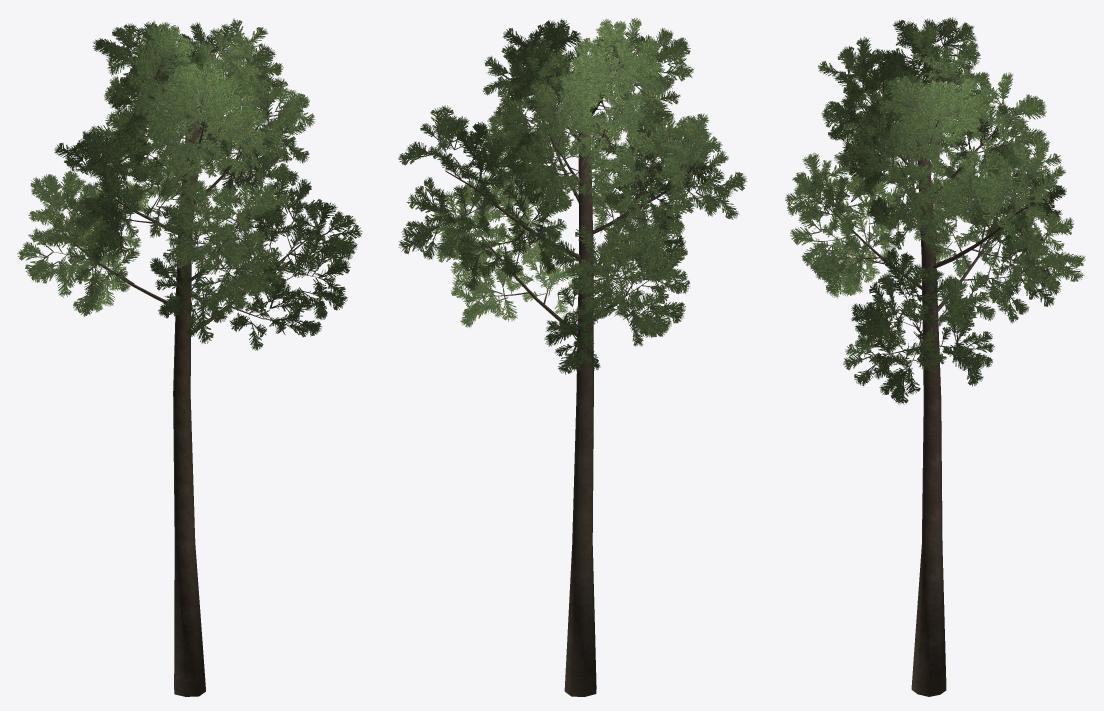
File: pine_open_v01_LOD1.fbx
The picture shows the model from 3 angles, left to right: view 1: azimuth 30°, elevation 25°; view 2: azimuth 150°, elevation 25°; view 3: azimuth 270°, elevation 25°; orthographic projection. The views are drawn at different scales.
Parts seen in each view (by area): view 1: pine_open_v01_LOD1; view 2: pine_open_v01_LOD1; view 3: pine_open_v01_LOD1.
Boxes of the visible parts, x1,y1,x2,y2 form: pine_open_v01_LOD1: (17, 18, 362, 696); pine_open_v01_LOD1: (398, 17, 747, 696); pine_open_v01_LOD1: (785, 17, 1085, 696).
Bounding box in the file's own units: 803 × 781 × 1828.
2 materials, 2 textured.
